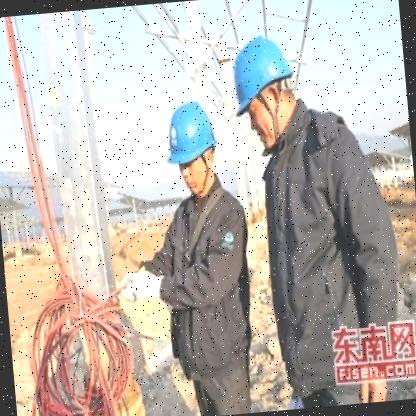capacete: (226, 30, 303, 158), (159, 96, 224, 198)
sem_colete_refletivo: (253, 115, 415, 399), (155, 185, 262, 375)
